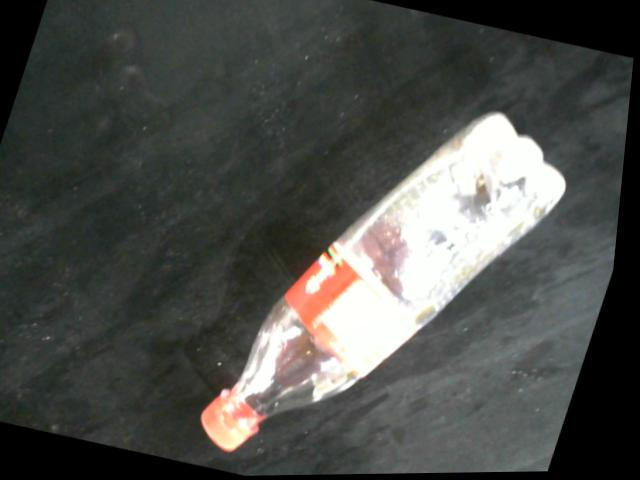bottle: (208, 111, 570, 454)
